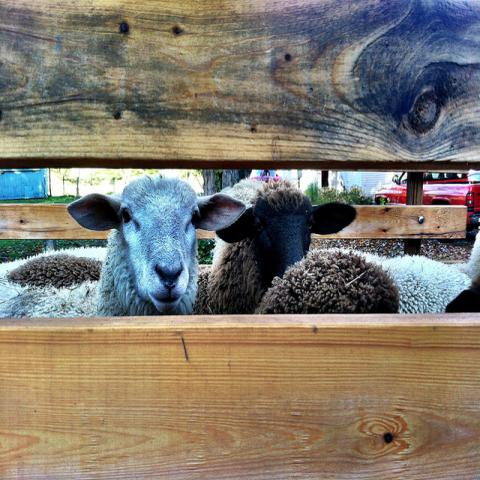car: (250, 169, 284, 182)
truck: (372, 170, 479, 234)
